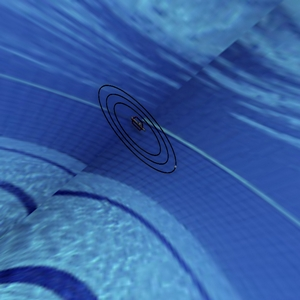circle: (86, 74, 186, 184)
submarine: (125, 108, 146, 138)
